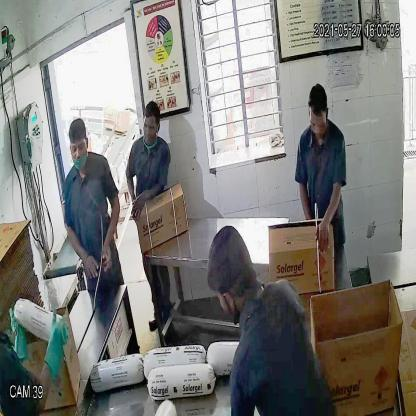no_goggles: (67, 138, 89, 156)
